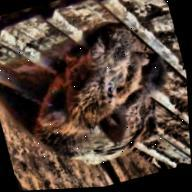boar: (6, 12, 188, 182)
